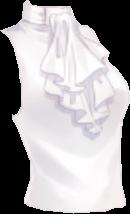Bodice: (1, 0, 129, 212)
Neckline: (27, 0, 70, 8)
Waistline: (22, 201, 127, 213)
